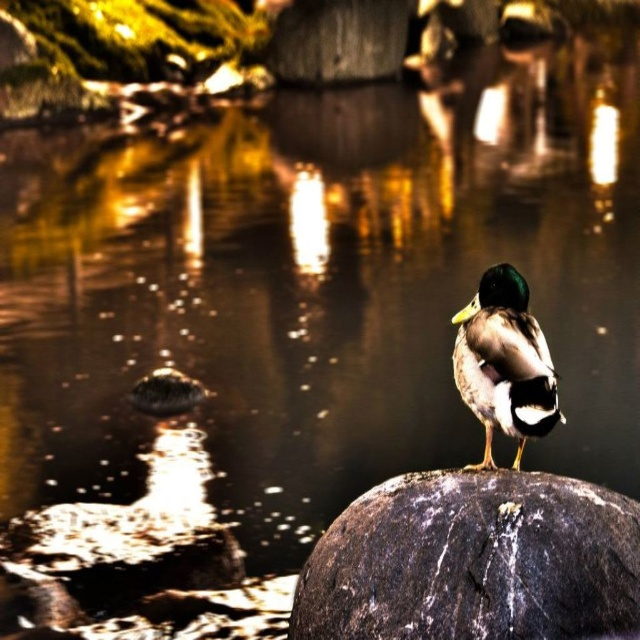Goose: (446, 260, 554, 480)
